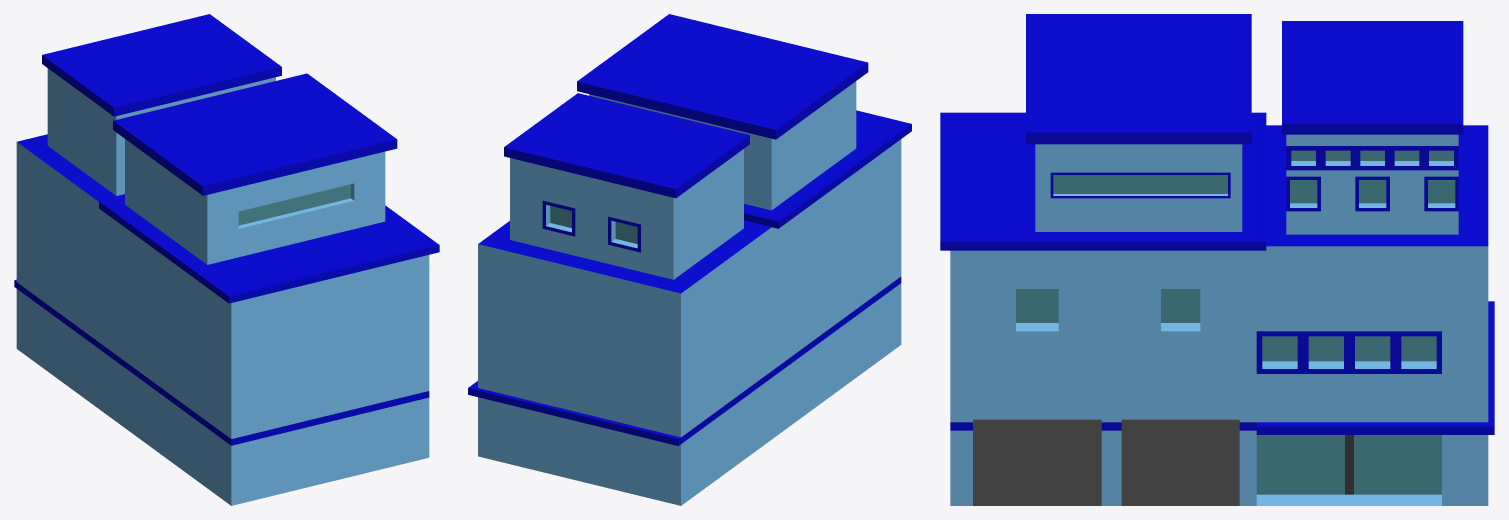
File: building_2.fbx
3 views of the same model, side by side, from view 1: azimuth 30°, elevation 25°; view 2: azimuth 150°, elevation 25°; view 3: azimuth 270°, elevation 25° (orthographic). The views are drawn at different scales.
Parts seen in each view (by area): view 1: PoliceStation; view 2: PoliceStation; view 3: PoliceStation.
Part boxes in pixels (<box>): PoliceStation: <box>14,14,439,505</box>; PoliceStation: <box>468,14,911,505</box>; PoliceStation: <box>940,14,1494,505</box>.
Bounding box in the file's own units: 425 × 571 × 769.
